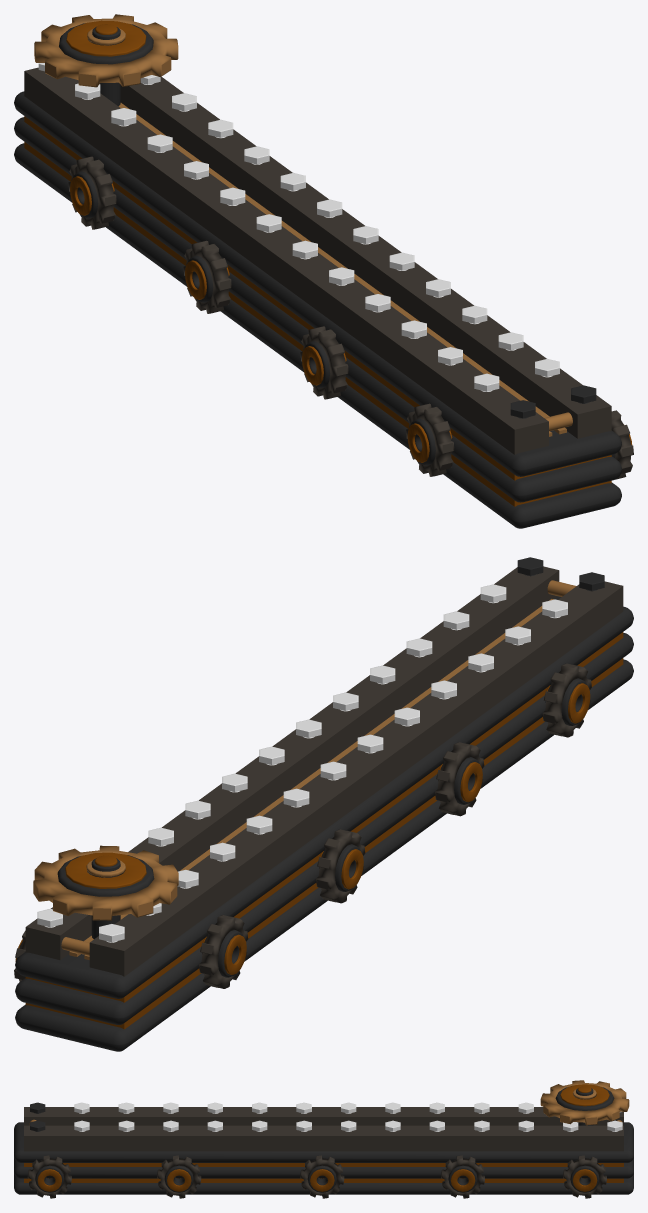
File: Slider.fbx
3 views of the same model, one above another, from view 1: azimuth 30°, elevation 25°; view 2: azimuth 150°, elevation 25°; view 3: azimuth 270°, elevation 25° (orthographic). The views are drawn at different scales.
Visible parts, largest first — view 1: Cube_1, Cube_2, Cube_5, Cube_4, Cube_3, Шестеренушка, Cloner_1, Cloner, Cube, Шестеренушка_7, Шестеренушка_9, Шестеренушка_6 (+3 smaller); view 2: Cube_1, Cube_2, Cube_5, Cube_4, Cube_3, Шестеренушка, Cloner_1, Cloner, Cube, Шестеренушка_8, Шестеренушка_9, Шестеренушка_7 (+2 smaller); view 3: Cube_2, Cube_1, Cube_5, Cube_4, Cube_3, Cube, Шестеренушка, Cloner, Cloner_1, Шестеренушка_3, Шестеренушка_4, Шестеренушка_5 (+2 smaller).
Boxes of the visible parts, x1,y1,x2,y2 form: Cube_1: (24, 67, 548, 454); Cube_2: (120, 76, 611, 438); Cube_5: (14, 91, 621, 476); Cube_4: (14, 143, 621, 528); Cube_3: (14, 117, 621, 502); Шестеренушка: (34, 14, 178, 87); Cloner_1: (38, 63, 535, 418); Cloner: (140, 75, 596, 403); Cube: (24, 116, 611, 506); Шестеренушка_7: (300, 326, 348, 399); Шестеренушка_9: (183, 240, 231, 313); Шестеренушка_6: (68, 156, 116, 229); Cube_1: (89, 581, 623, 976); Cube_2: (25, 566, 559, 960); Cube_5: (15, 596, 633, 998); Cube_4: (15, 659, 633, 1051); Cube_3: (15, 633, 633, 1024); Шестеренушка: (33, 845, 178, 920); Cloner_1: (99, 572, 604, 942); Cloner: (37, 557, 543, 927); Cube: (25, 632, 623, 1029); Шестеренушка_8: (542, 663, 591, 737); Шестеренушка_9: (316, 829, 365, 903); Шестеренушка_7: (435, 742, 484, 816); Cube_2: (24, 1125, 623, 1151); Cube_1: (24, 1107, 623, 1125); Cube_5: (14, 1122, 633, 1162); Cube_4: (14, 1173, 633, 1194); Cube_3: (14, 1157, 633, 1178); Cube: (24, 1163, 623, 1182); Шестеренушка: (540, 1080, 629, 1125); Cloner: (30, 1120, 622, 1131); Cloner_1: (30, 1102, 621, 1113); Шестеренушка_3: (27, 1155, 71, 1198); Шестеренушка_4: (157, 1155, 201, 1198); Шестеренушка_5: (441, 1155, 484, 1198).
Size of the model in its own units: 49.84 by 45.77 by 279.
